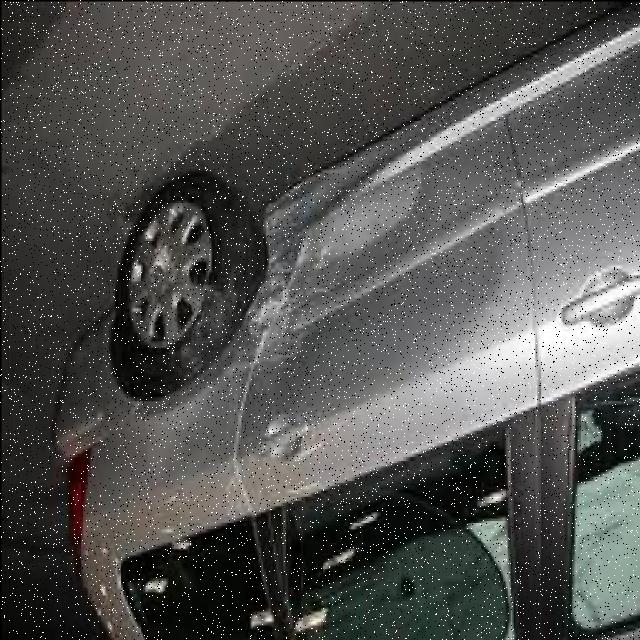damage: (216, 177, 325, 387), (329, 168, 429, 268), (444, 205, 510, 340)
